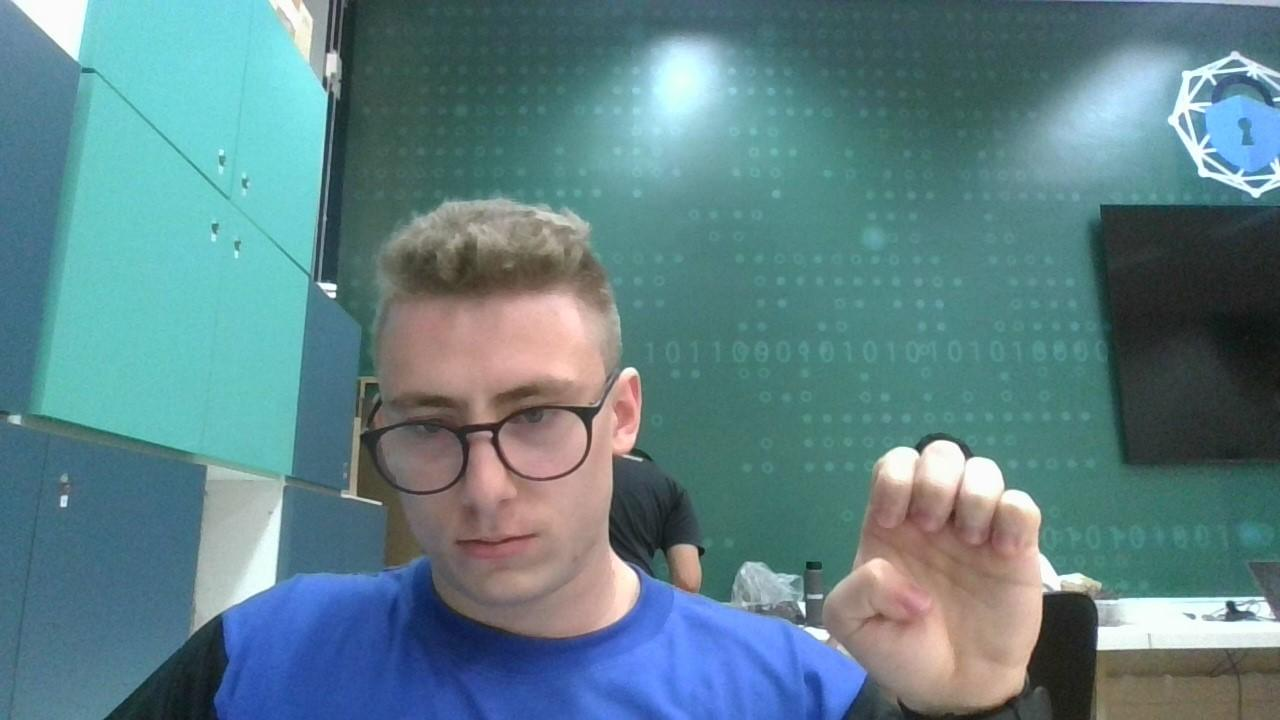E: (812, 434, 1054, 704)
